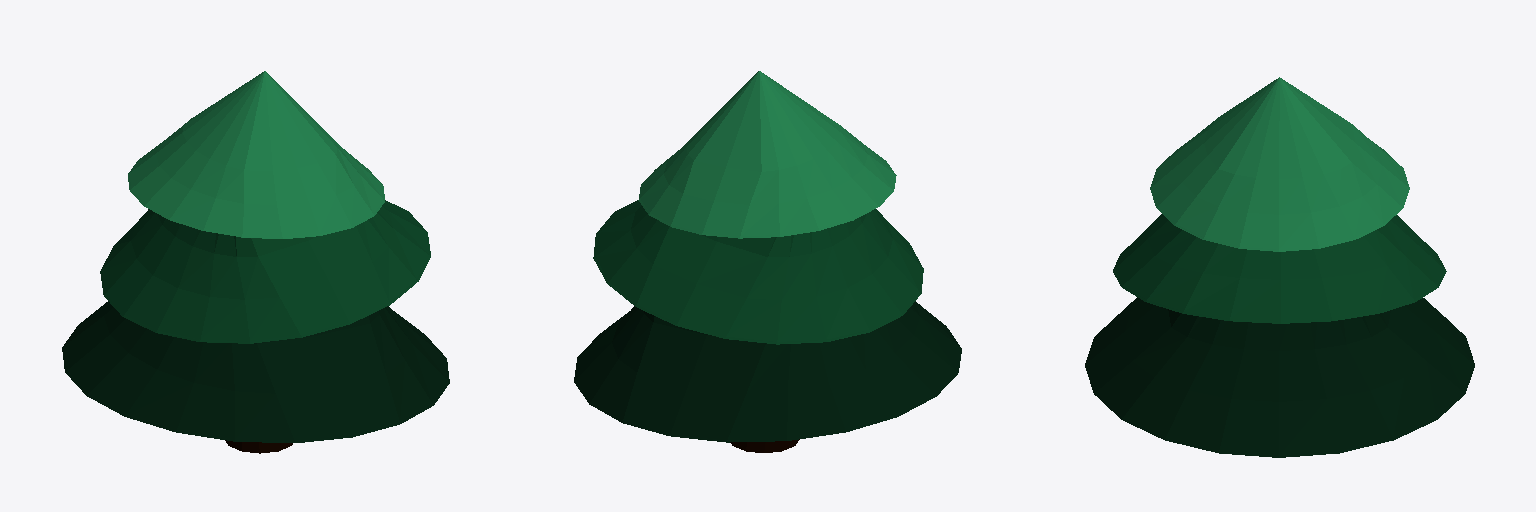
Rendered from pino.obj.
The picture shows the model from 3 angles: view 1: azimuth 30°, elevation 25°; view 2: azimuth 150°, elevation 25°; view 3: azimuth 270°, elevation 25°; orthographic projection.
Visible parts, largest first — view 1: pCylinder24; view 2: pCylinder24; view 3: pCylinder24.
Boxes of the visible parts, <box> form: pCylinder24: <box>62,71,449,453</box>; pCylinder24: <box>574,71,961,452</box>; pCylinder24: <box>1085,77,1474,457</box>.
Size of the model in its own units: 5.86 by 6.07 by 5.87.